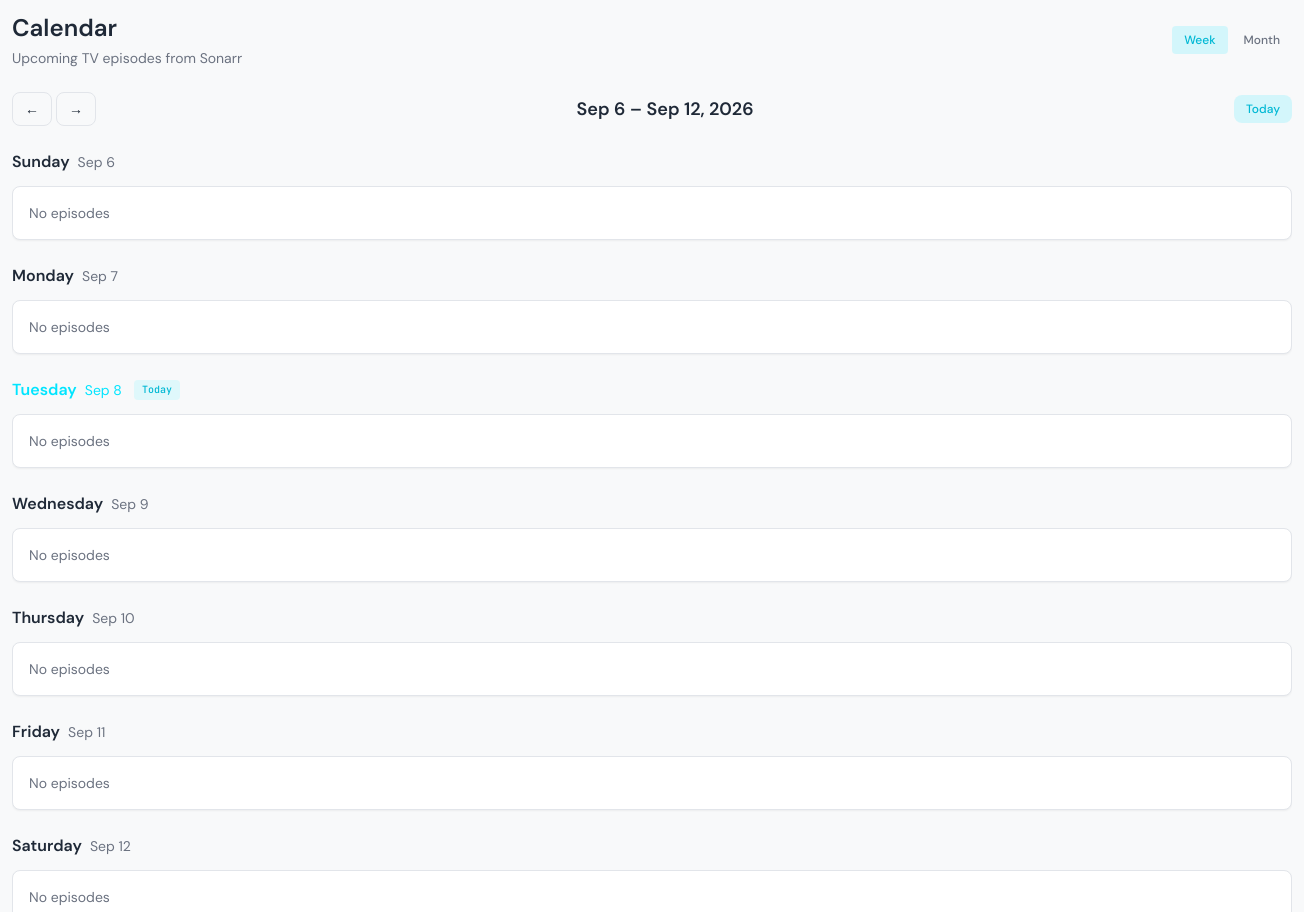
Test case: Calendar › view switching › switches to month view
What coordinates should you click on to do the following:
click the button "month"
I would click on:
 (1262, 40)
Its box is [1232,26,1292,54].
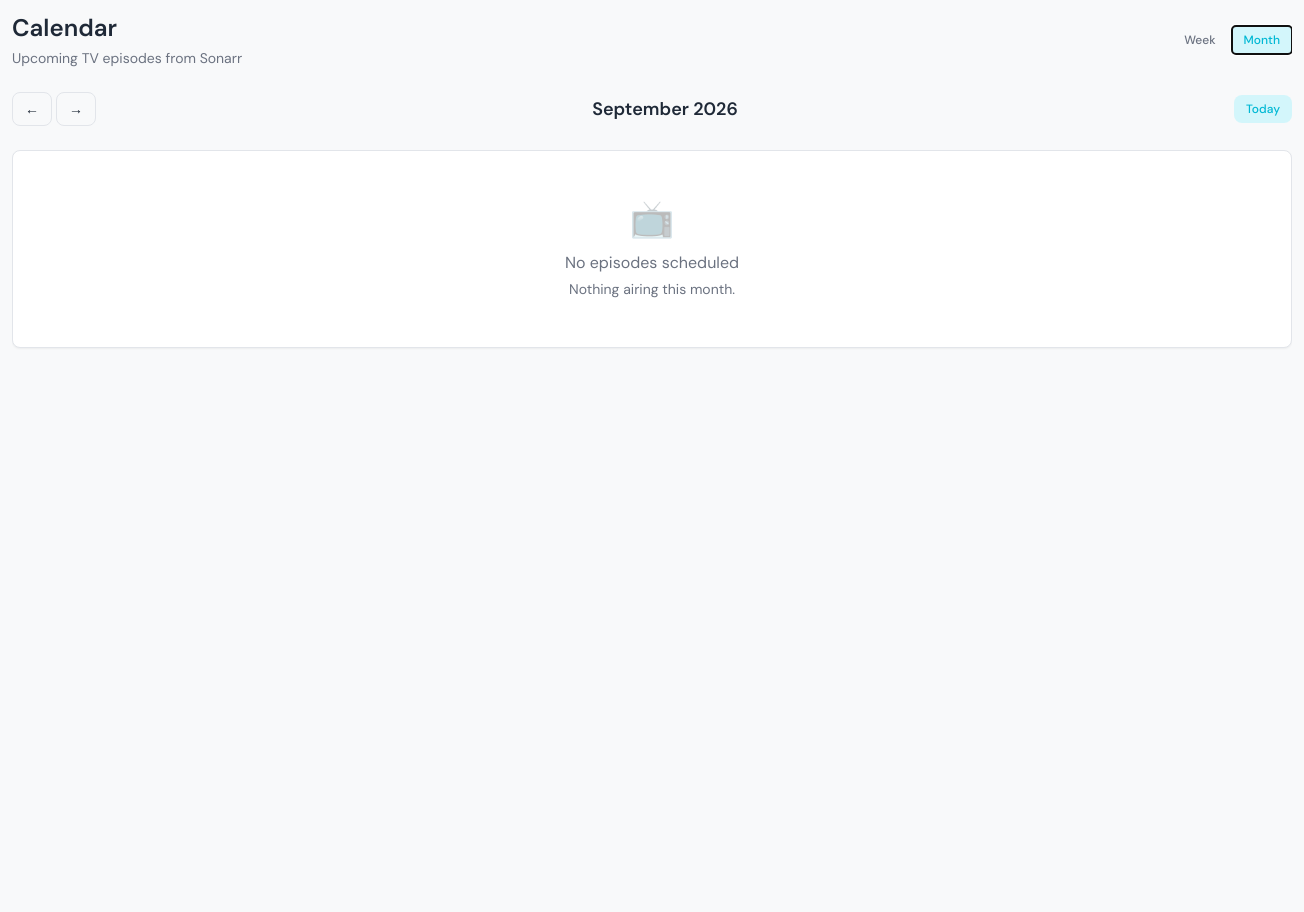
Result: the text "Nothing airing this month." is shown at [569,280,735,298]
